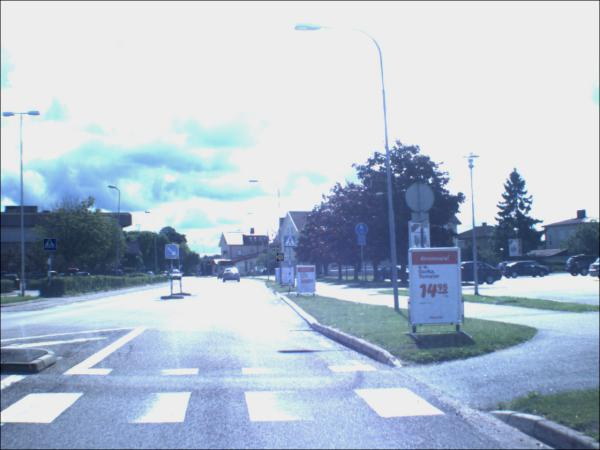PASS_RIGHT_SIDE: (166, 245, 181, 261)
PEDESTRIAN_CROSSING: (45, 241, 58, 253), (286, 237, 298, 248)
PRIORITY_ROAD: (278, 254, 286, 263)
